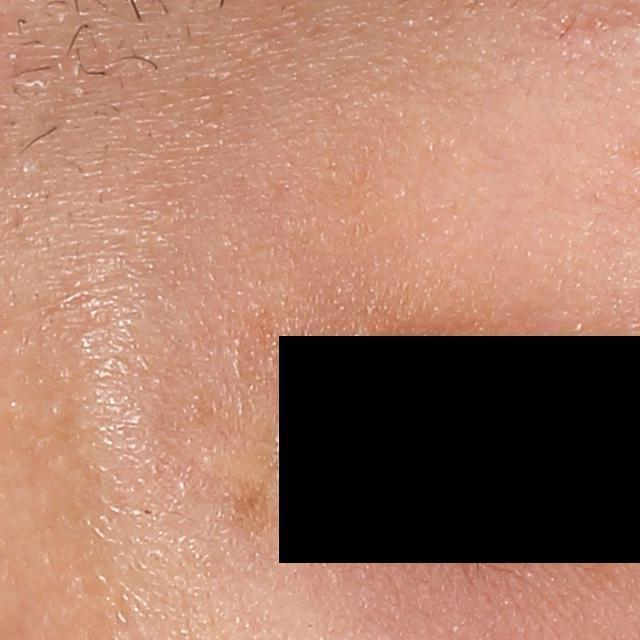melasma: (215, 480, 277, 553)
